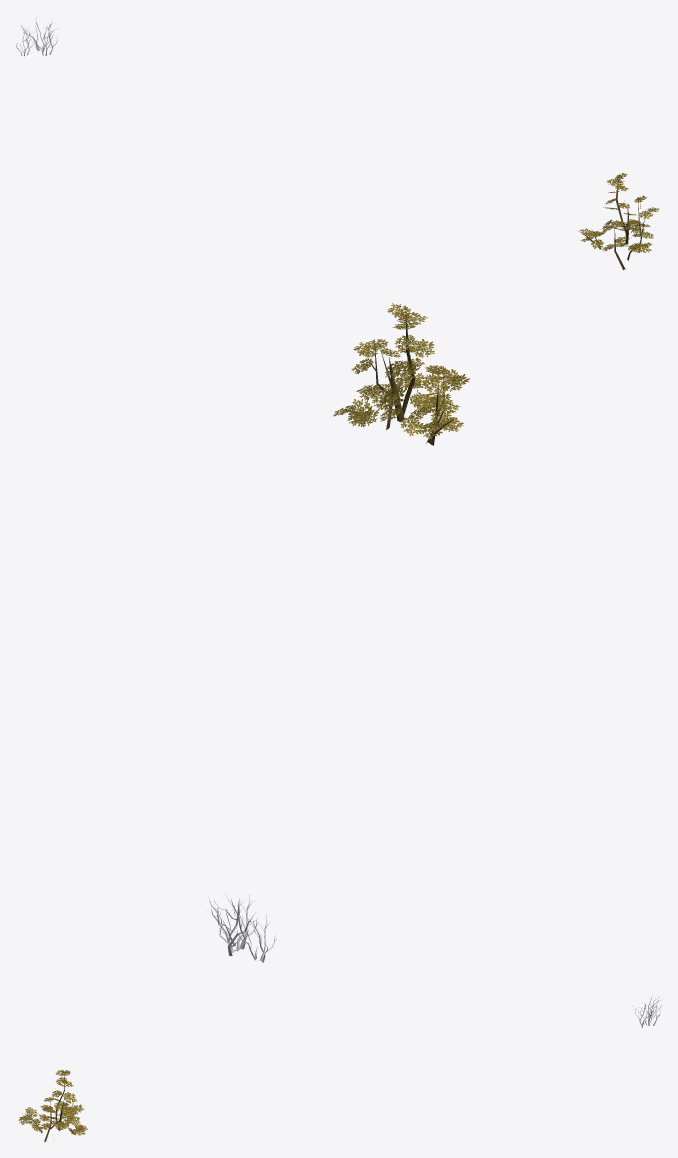
Rendered from S_Tree_3100_008.FBX.
3 renders of one model, top to bottom at view 1: azimuth 30°, elevation 25°; view 2: azimuth 150°, elevation 25°; view 3: azimuth 270°, elevation 25°, orthographic. The views are drawn at different scales.
Visible parts, largest first — view 1: S_Tree_Yellow004_001, S_Tree_Yellow007_001; view 2: S_Tree_Yellow004_001, S_Tree_Yellow007_001; view 3: S_Tree_Yellow004_001, S_Tree_Yellow007_001.
Part boxes in pixels (left/top/right/bottom): S_Tree_Yellow004_001: left=579, top=173, right=659, bottom=270; S_Tree_Yellow007_001: left=16, top=18, right=57, bottom=56; S_Tree_Yellow004_001: left=333, top=303, right=469, bottom=445; S_Tree_Yellow007_001: left=206, top=894, right=276, bottom=962; S_Tree_Yellow004_001: left=18, top=1070, right=87, bottom=1141; S_Tree_Yellow007_001: left=632, top=995, right=661, bottom=1027.
Size of the model in its own units: 3622 by 1018 by 7884.
